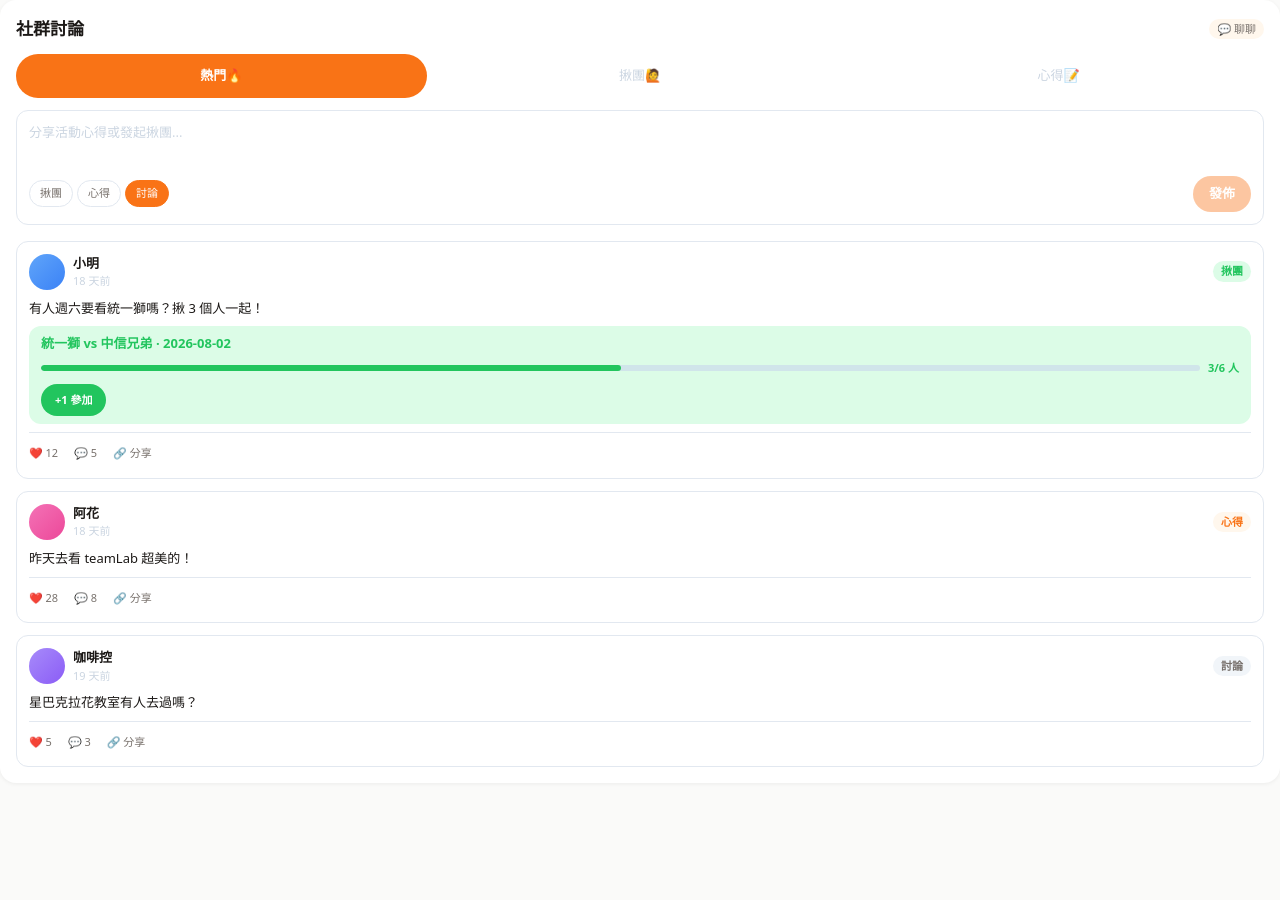
CommunityBoard › Tab 篩選「揪團」只顯示揪團貼文
Note: 第二個 Tab 是「揪團🙋」
What coordinates should you click on to do the following:
click the button with class "tab-btn" showing "揪團🙋"
I would click on:
 (640, 76)
Its box is left=435, top=54, right=845, bottom=98.
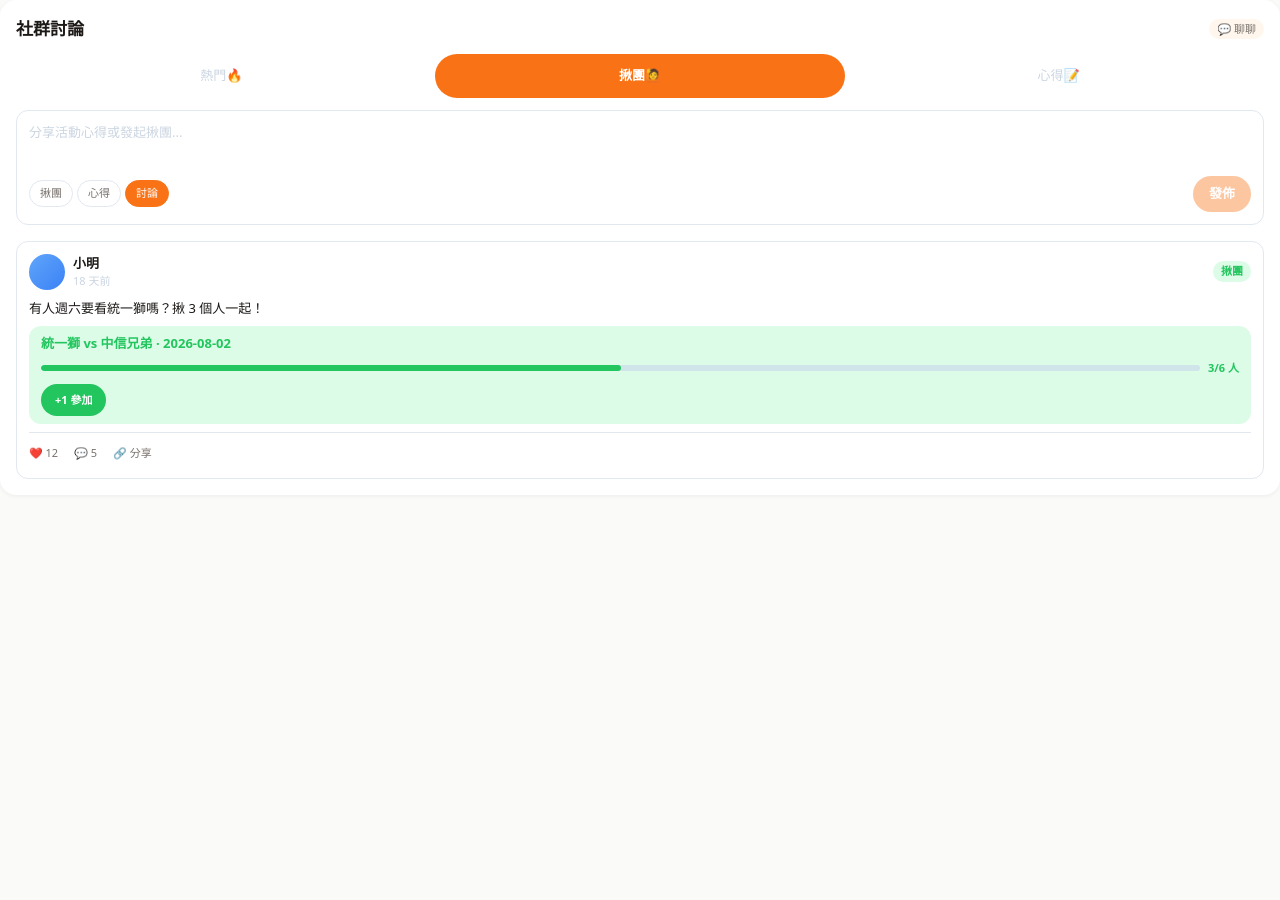
Expected: the text "小明" is shown, left=73, top=254, right=99, bottom=272
Expected: the text "阿花" is gone
Expected: the text "咖啡控" is gone
